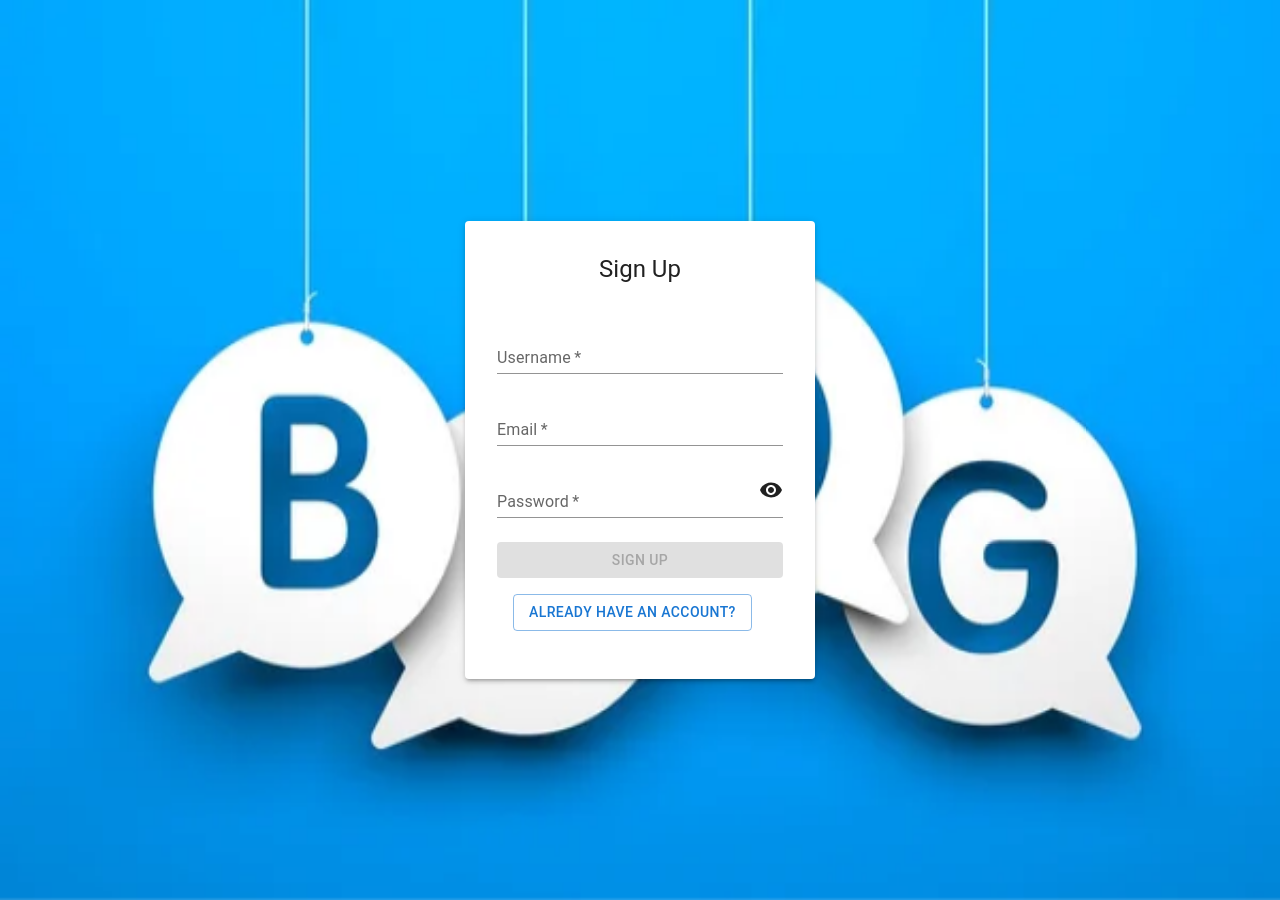
it: SignupPage Component › enables submit button only when all fields are valid
The image size is (1280, 900).
Check: the button "Sign up" is disabled, box [497, 542, 783, 578]
Type "validuser" into the field labelled "Username *" at (640, 358), box [497, 342, 783, 374]
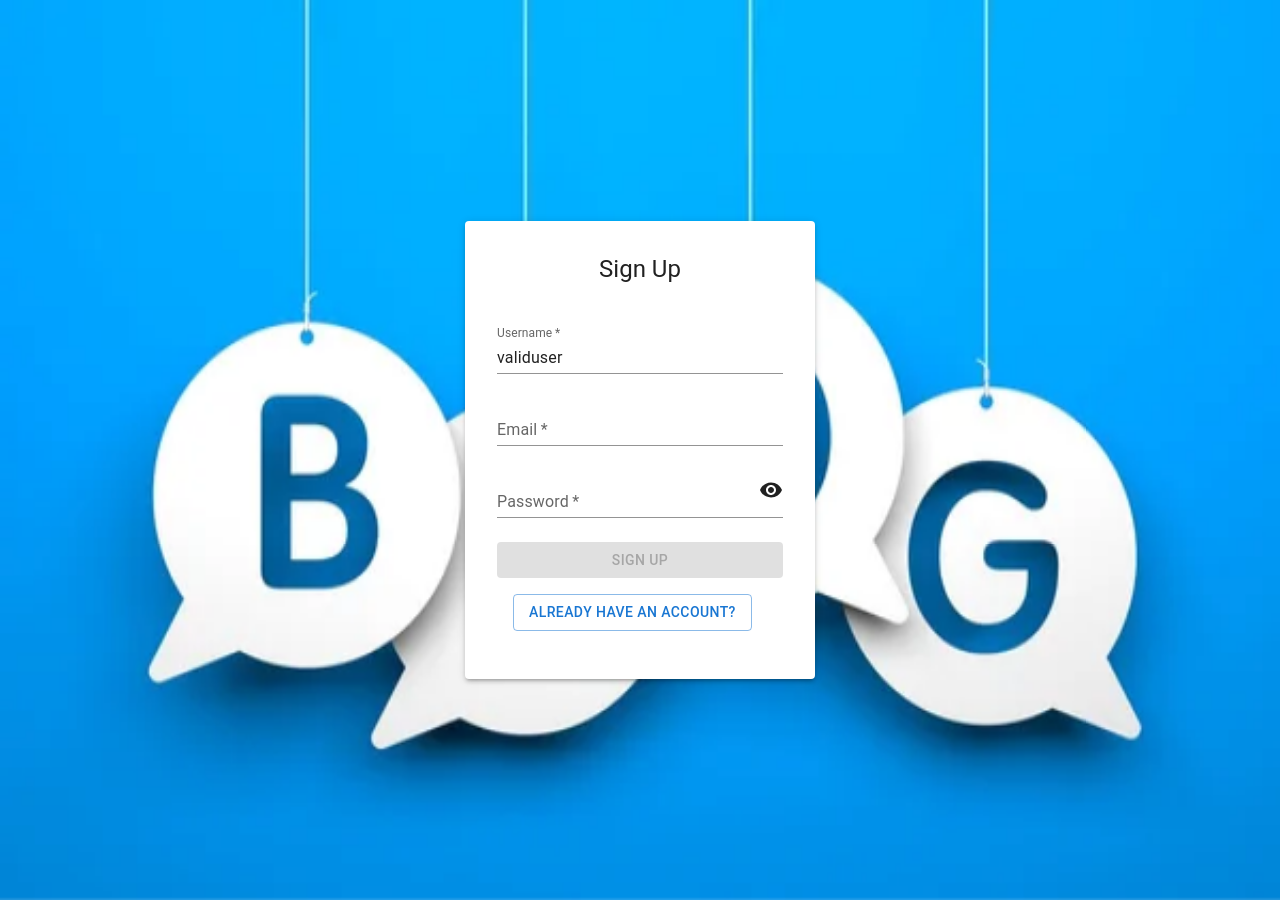
Type "test@example.com" into the field labelled "Email *" at (640, 430), box [497, 414, 783, 446]
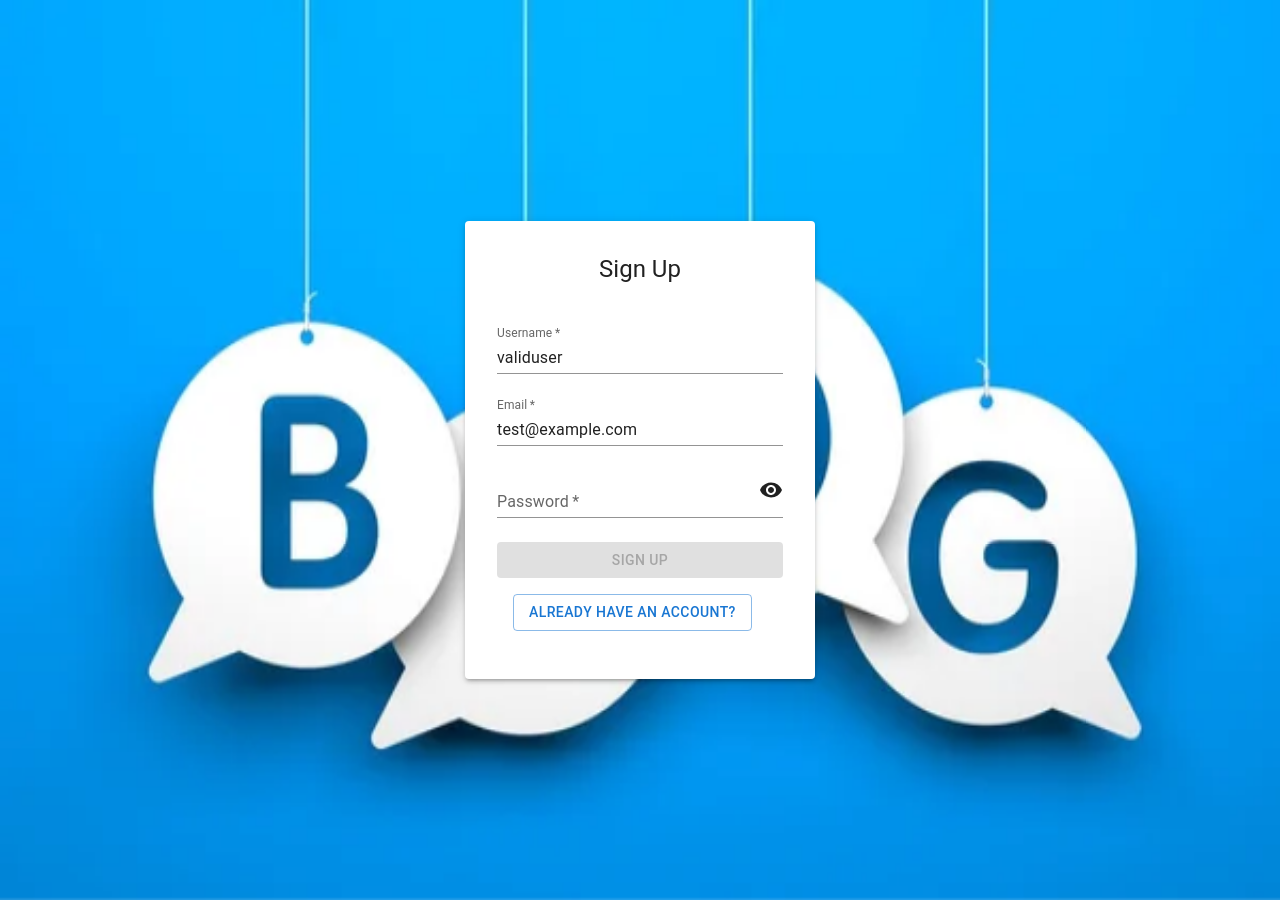
Type "validpassword123" into the password field labelled "Password *" at (640, 502), box [497, 486, 783, 518]
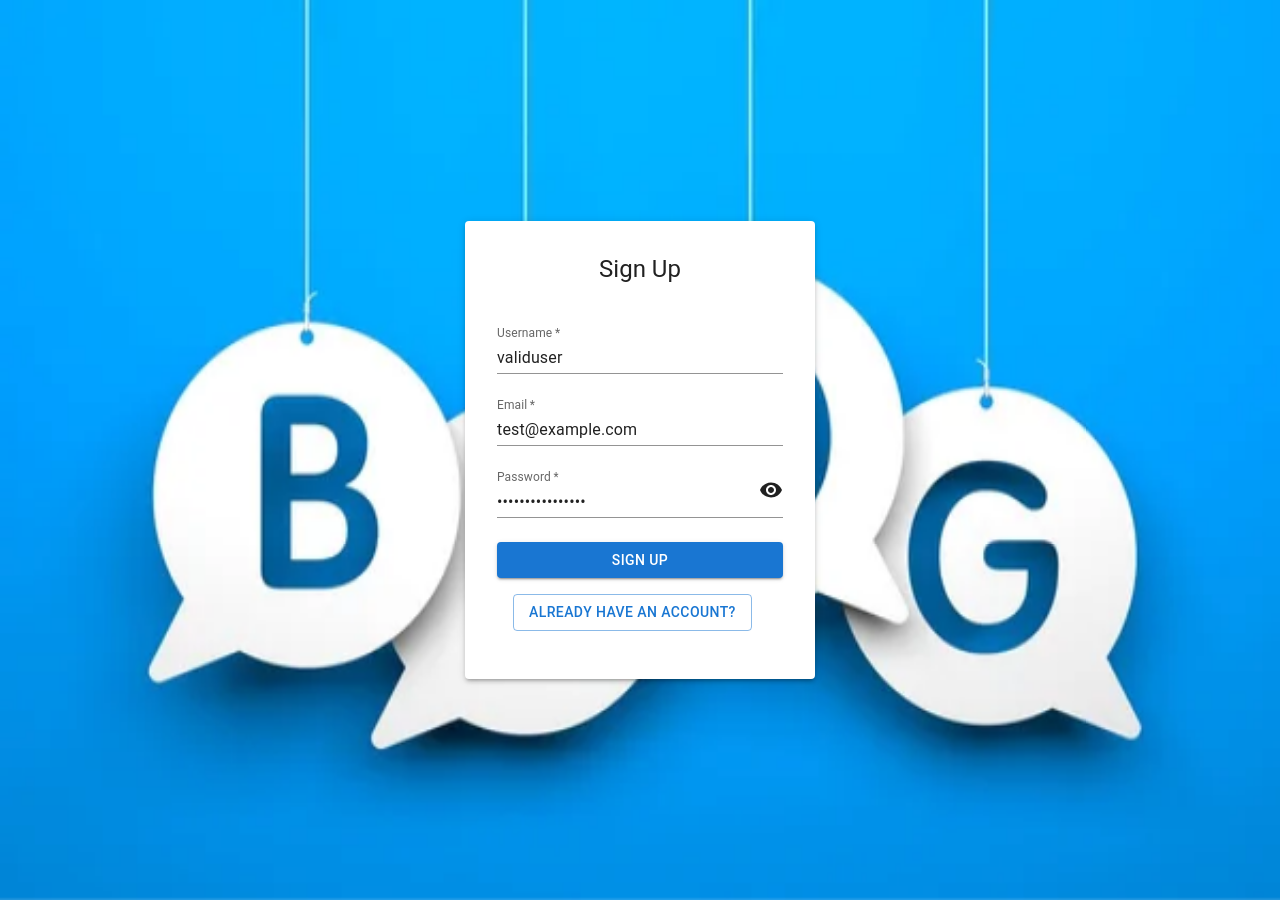
Check: the button "Sign up" is enabled, box [497, 542, 783, 578]
